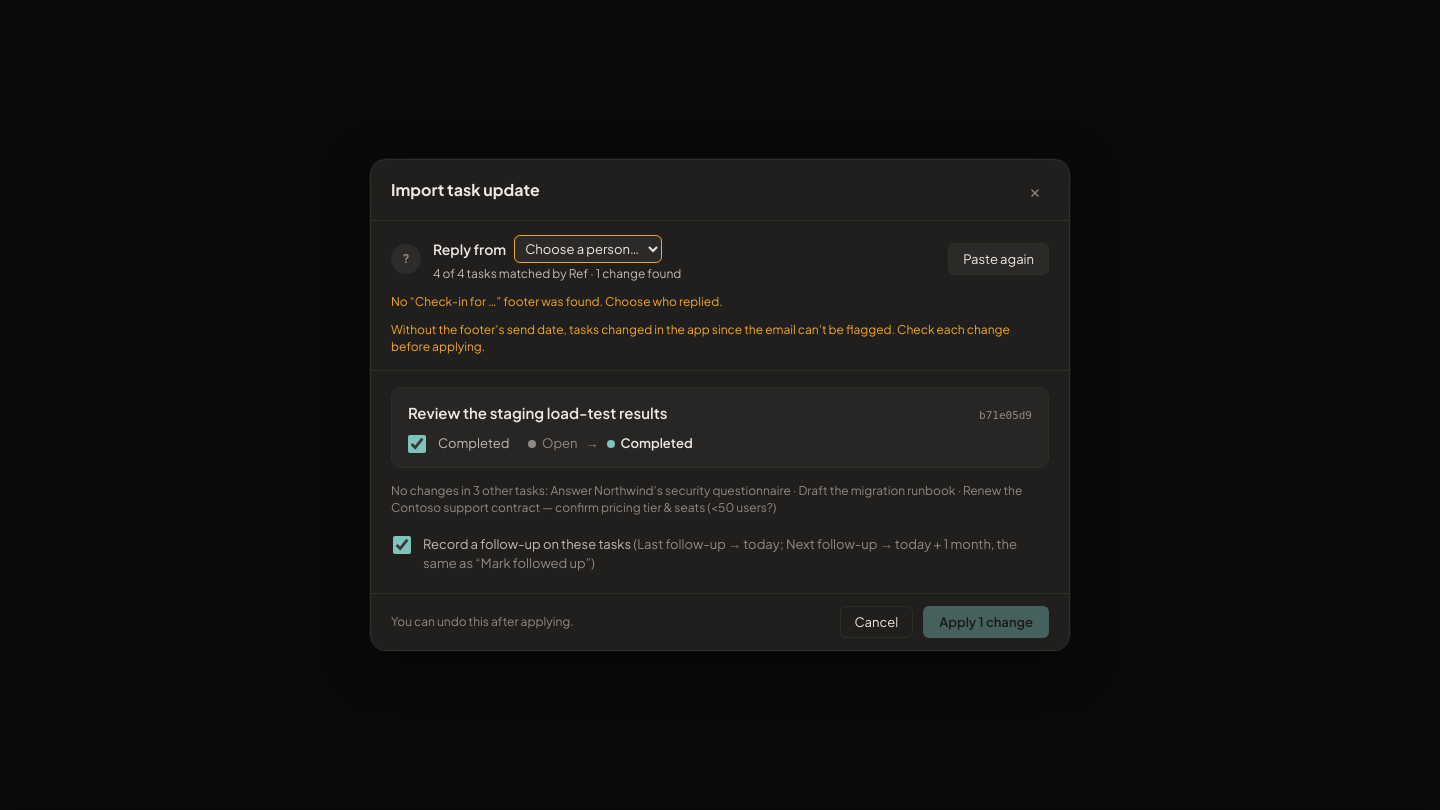
Test: CheckinImportDialog — who replied › no footer: Apply waits for a person; the missing send date is flagged
Expected: the text "No “Check-in for …” footer was found. Choose who replied." is shown, [391, 294, 723, 309]
Expected: the text "Without the footer’s send date" is shown, [391, 322, 1010, 354]
Select "Marcus Chen" in the dropdown labelled "Reply from": {"x": 588, "y": 249} [514, 235, 662, 263]
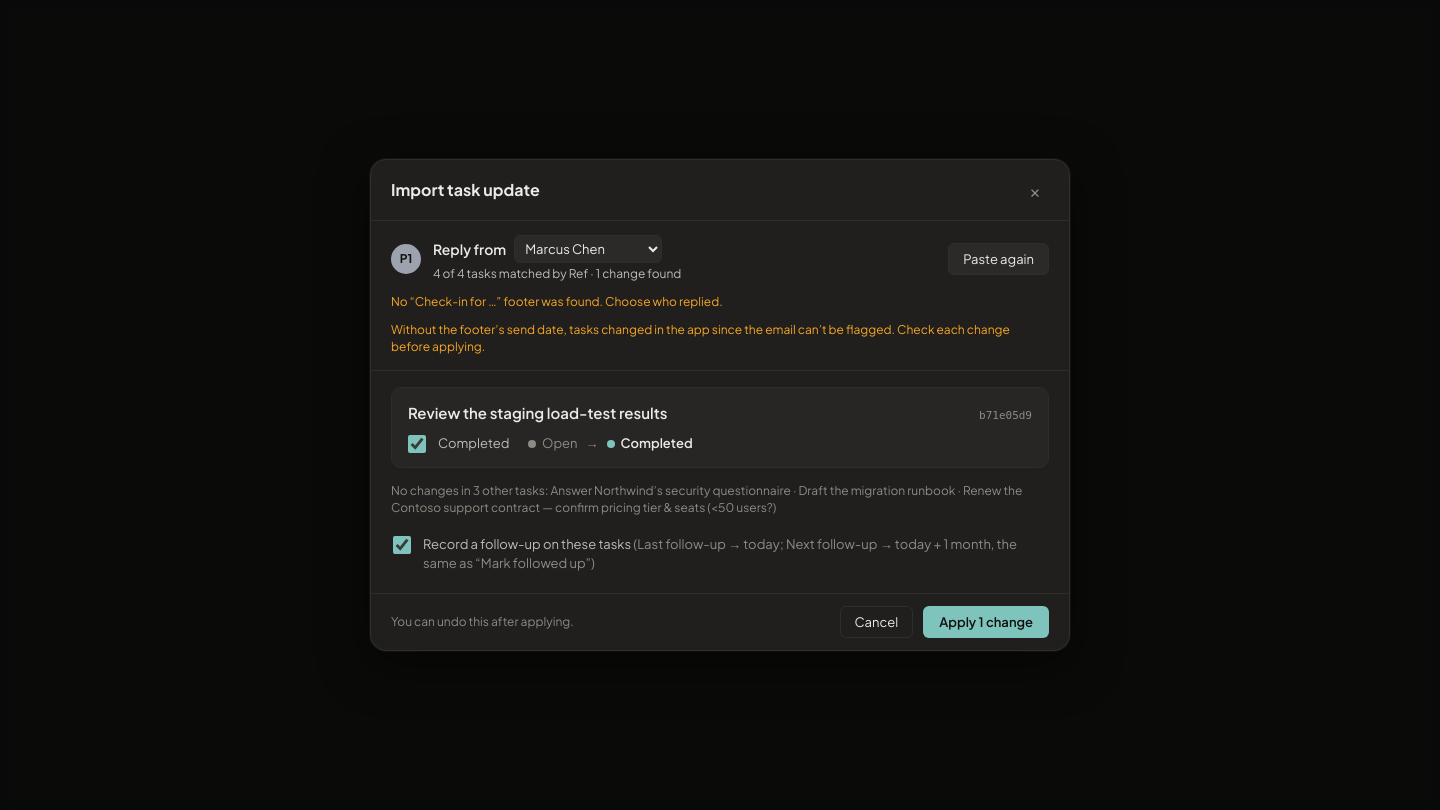
Expected: the button "Apply 1 change" is shown, [923, 606, 1049, 638]
Expected: the button "Apply 1 change" is enabled, [923, 606, 1049, 638]
